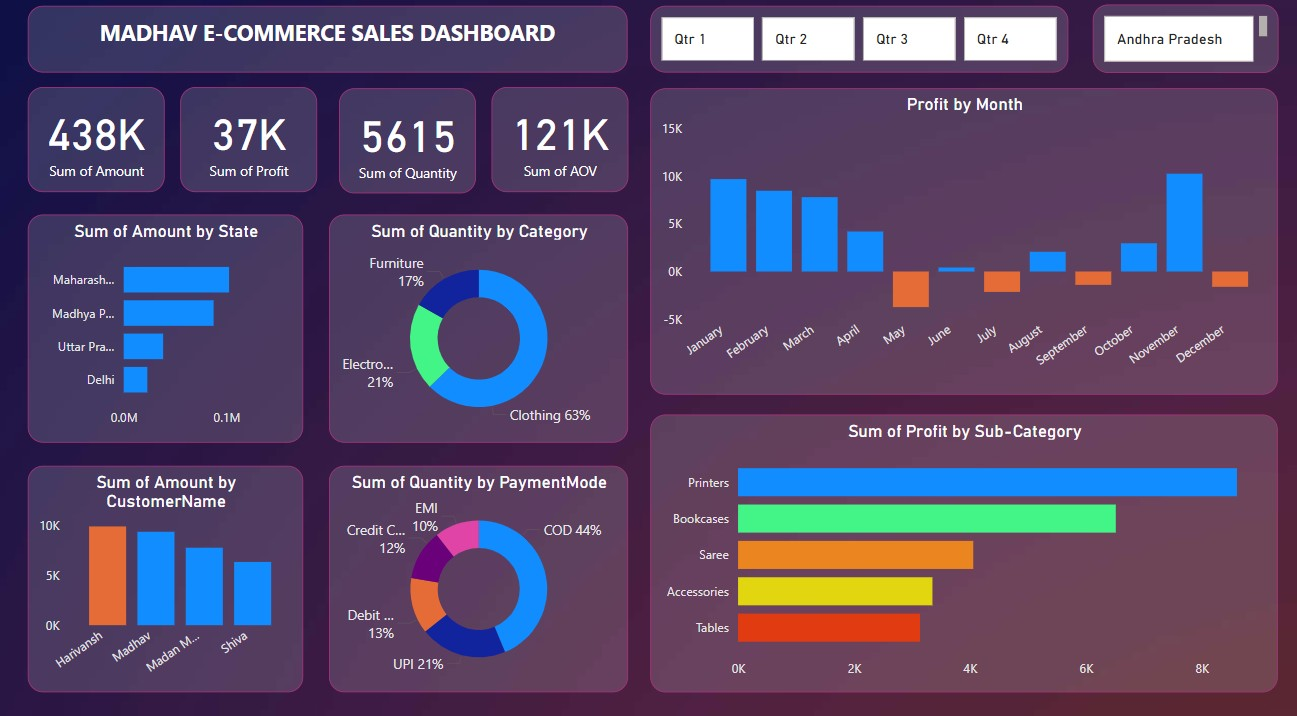

Layout of this report page (visuals, bound fields, positions):
{"tool":"powerbi","page":{"name":"Page 1","canvas":[1280,720],"ordinal":0},"visuals":[{"type":"textbox","box":[28.8,13.7,588.7,65.9],"z":0},{"type":"columnChart","title":"Profit by Month","fields":{"Y":["Details.Profit"],"Category":["Orders.Order Date.Variation.Date Hierarchy.Month"]},"box":[639.5,94.7,616.1,300.5],"z":1000},{"type":"barChart","fields":{"Category":["Details.Sub-Category"],"Y":["Details.Profit"]},"box":[639.5,414.4,616.1,273.1],"z":2000},{"type":"donutChart","fields":{"Category":["Details.Category"],"Y":["Details.Quantity"]},"box":[323.8,218.2,293.7,223.7],"z":3000},{"type":"donutChart","fields":{"Y":["Details.Quantity"],"Category":["Details.PaymentMode"]},"box":[323.8,465.2,293.7,222.3],"z":4000},{"type":"card","fields":{"Values":["Details.Amount"]},"box":[28.8,93.3,134.5,102.9],"z":5000},{"type":"card","fields":{"Values":["Details.Quantity"]},"box":[333.4,94.7,134.5,102.9],"z":6000},{"type":"card","fields":{"Values":["Details.Profit"]},"box":[178.4,93.3,134.5,102.9],"z":7000},{"type":"card","fields":{"Values":["Details.AOV"]},"box":[483,93.3,134.5,102.9],"z":8000},{"type":"barChart","fields":{"Category":["Orders.State"],"Y":["Details.Amount"]},"box":[28.8,218.2,270.3,223.7],"z":9000},{"type":"columnChart","fields":{"Category":["Orders.CustomerName"],"Y":["Details.Amount"]},"box":[28.8,465.2,270.3,222.3],"z":10000},{"type":"advancedSlicerVisual","fields":{"Values":["Orders.Order Date.Variation.Date Hierarchy.Quarter"]},"box":[639.5,13.7,410.3,65.9],"z":11000},{"type":"advancedSlicerVisual","fields":{"Values":["Orders.State"]},"box":[1073.1,12.3,182.5,67.2],"z":12000}]}

Visuals, with their boxes in screenshot pixels (x1, y1, x2, y2), scaled from the page's 1280x720 canvas onto the 1297x716 screenshot:
textbox: 29:14:626:79
"Profit by Month" columnChart: 648:94:1272:393
barChart - Details.Sub-Category x Details.Profit: 648:412:1272:684
donutChart - Details.Category x Details.Quantity: 328:217:626:439
donutChart - Details.Quantity x Details.PaymentMode: 328:463:626:684
card - Details.Amount: 29:93:165:195
card - Details.Quantity: 338:94:474:197
card - Details.Profit: 181:93:317:195
card - Details.AOV: 489:93:626:195
barChart - Orders.State x Details.Amount: 29:217:303:439
columnChart - Orders.CustomerName x Details.Amount: 29:463:303:684
advancedSlicerVisual - Orders.Order Date.Variation.Date Hierarchy.Quarter: 648:14:1064:79
advancedSlicerVisual - Orders.State: 1087:12:1272:79
